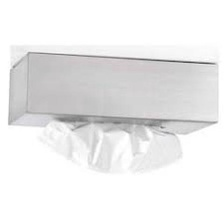book: (2, 47, 224, 141)
tissue: (31, 113, 187, 182)
